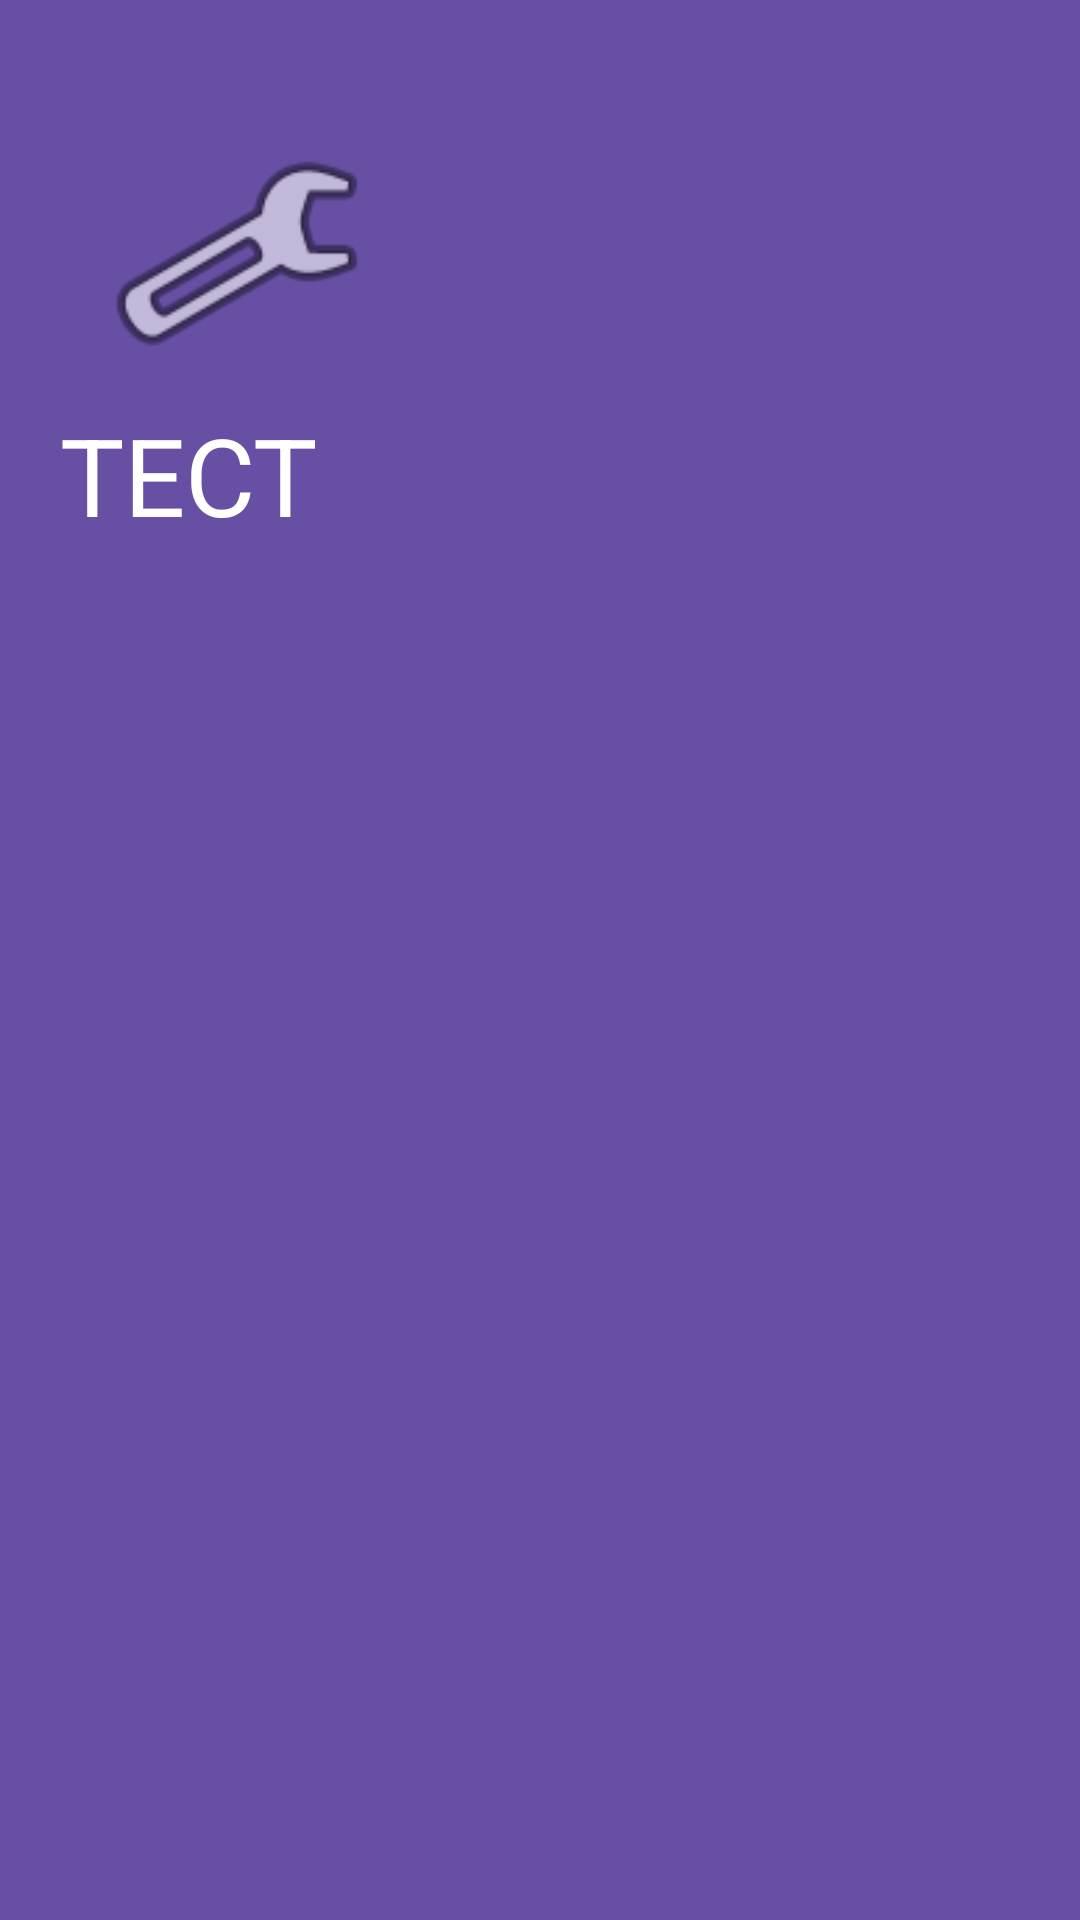

Icon bounding boxes for this 1080*1920 phone screenshot, format {"x1": x1, "y1": y1, "x2": x2, "y2": y2}:
manage: {"x1": 117, "y1": 162, "x2": 357, "y2": 345}
